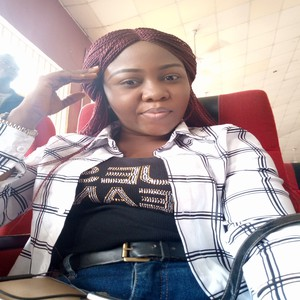Fulokoja_female_student: (56, 26, 232, 300)
